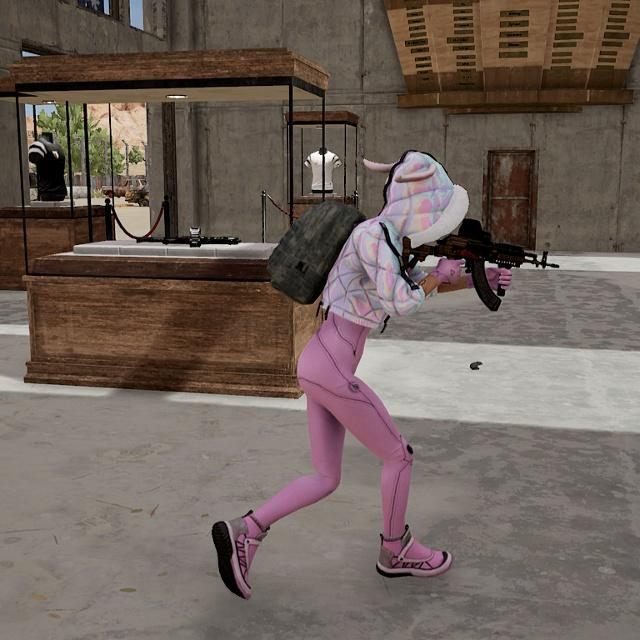head: (373, 145, 470, 259)
people: (204, 136, 475, 615)
